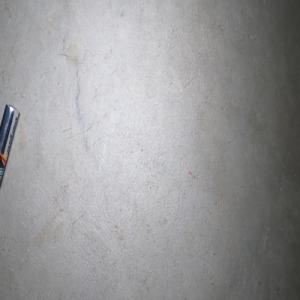Battery: (0, 103, 19, 190)
